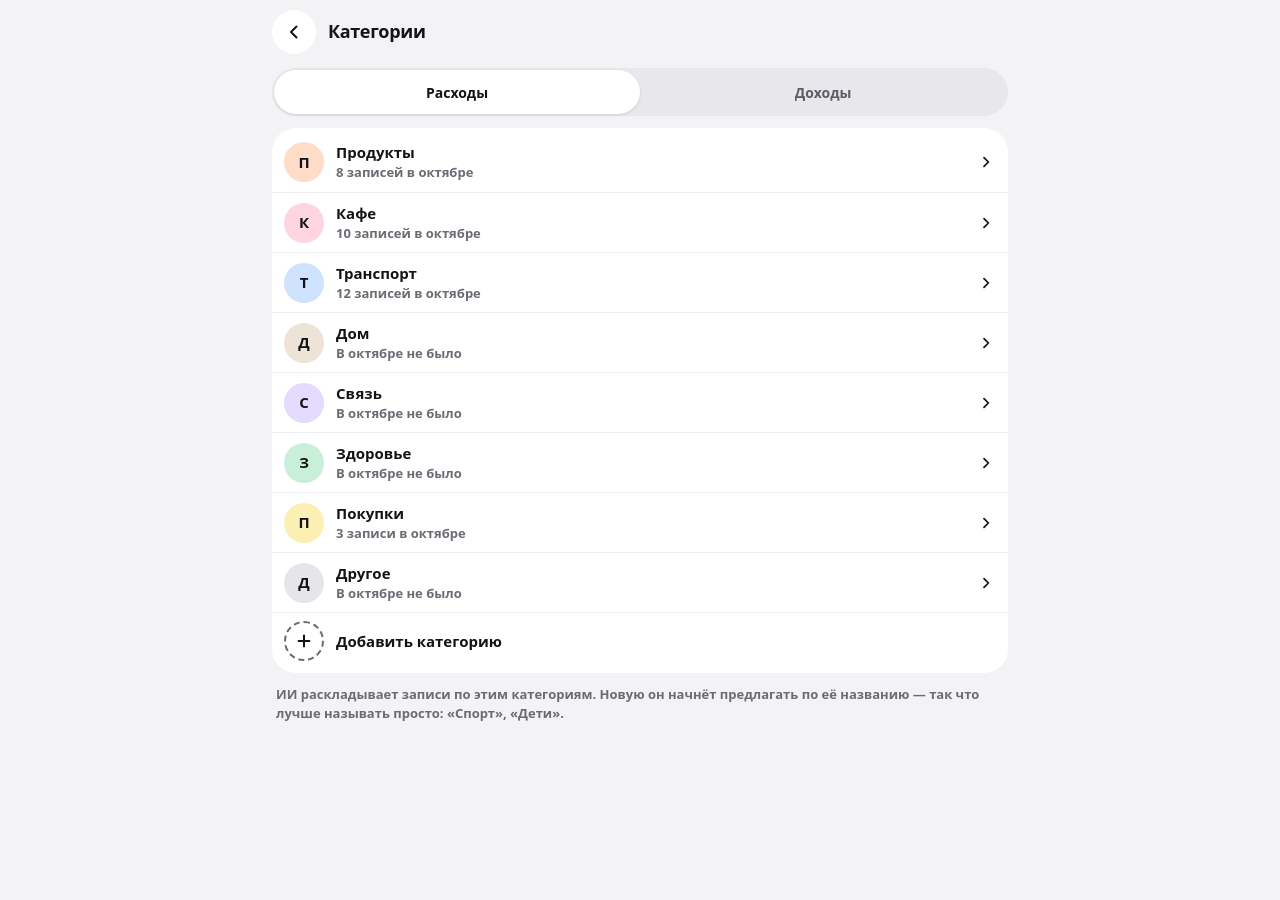
Test: «Категория «Кафе»»: the edit applies when the sheet closes › closing with nothing changed writes nothing
Step 1. Click the button "К Кафе 10 записей в октябре" → (304, 222), box [272,192,1008,252]
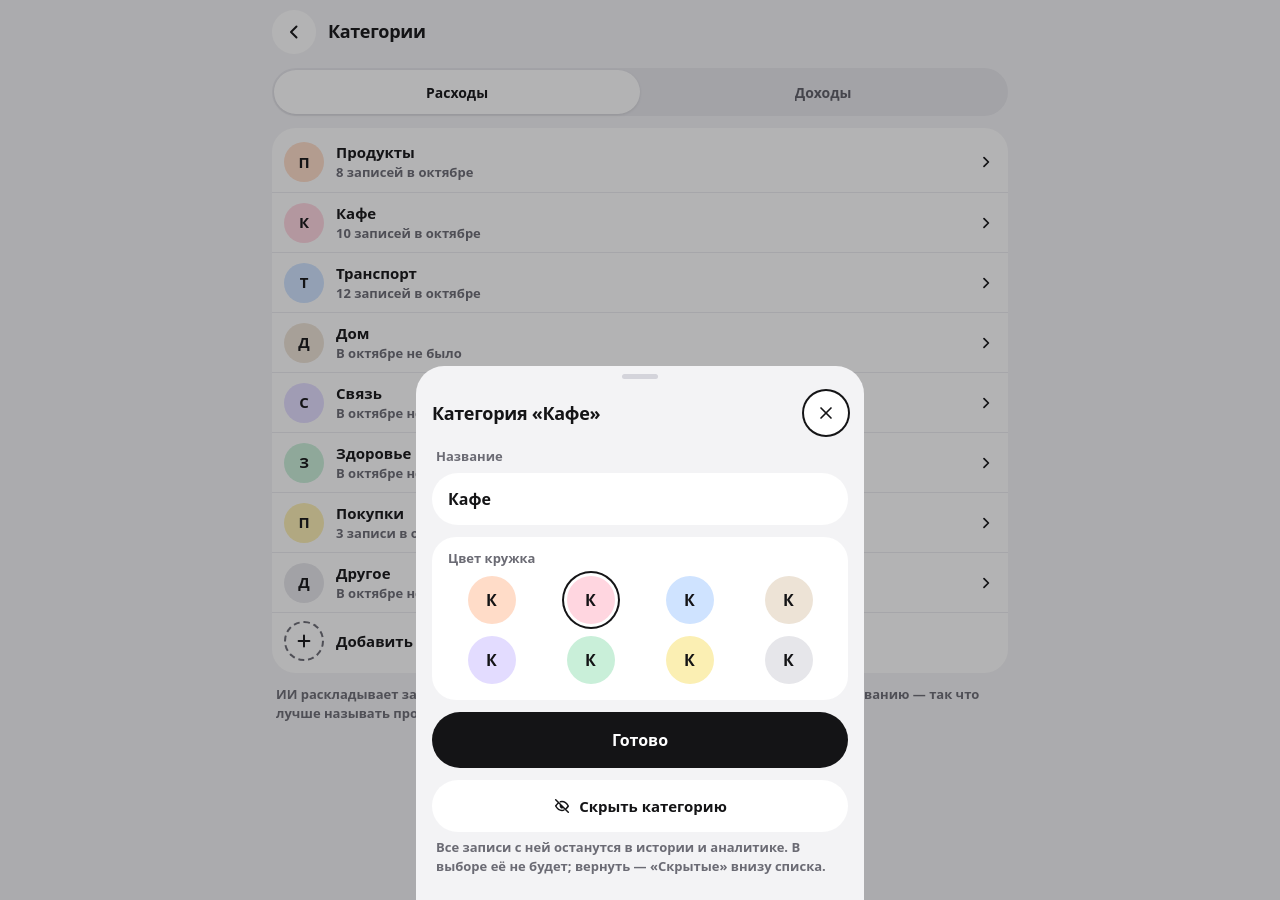
Step 2. Press Escape in the button named "Закрыть", box [804,391,848,435]
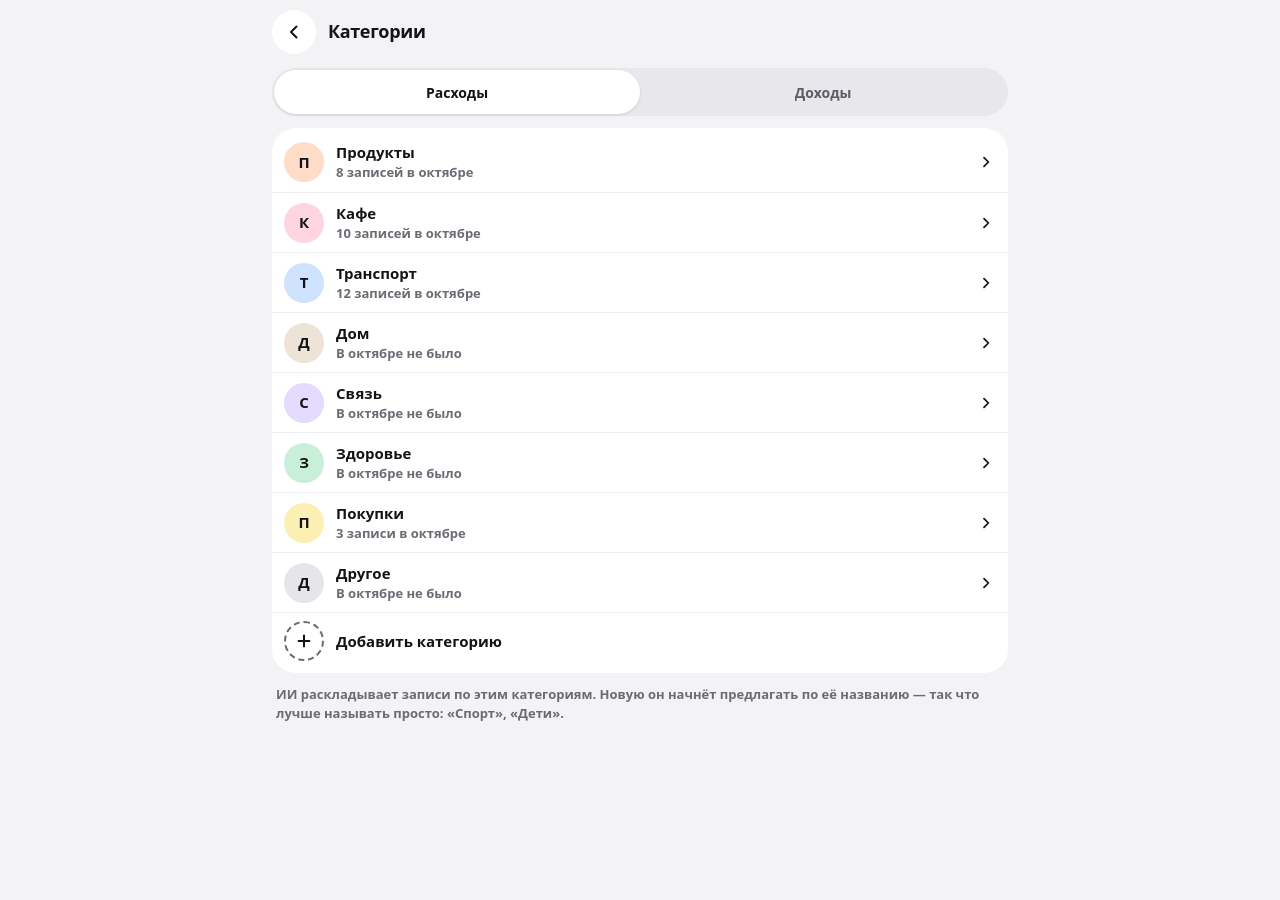
Now the dialog is gone
